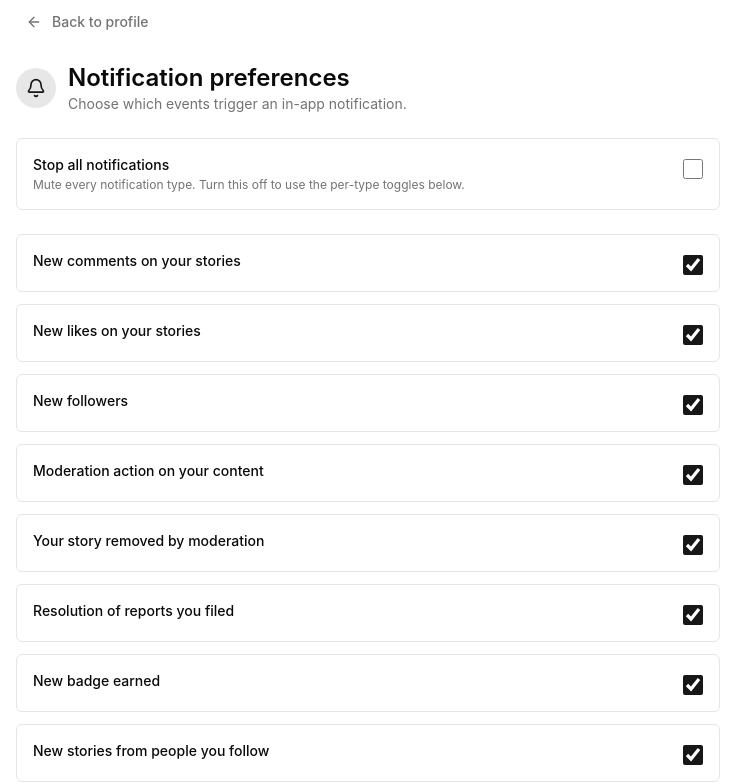
Test: NotificationPreferencesPage › toggling master mute disables per-type toggles and sends notifications_muted patch
The image size is (737, 784).
What coordinates should you click on to do the following:
click the switch labelled "Stop all notifications"
I would click on:
 (693, 169)
Its box is [683,159,703,179].
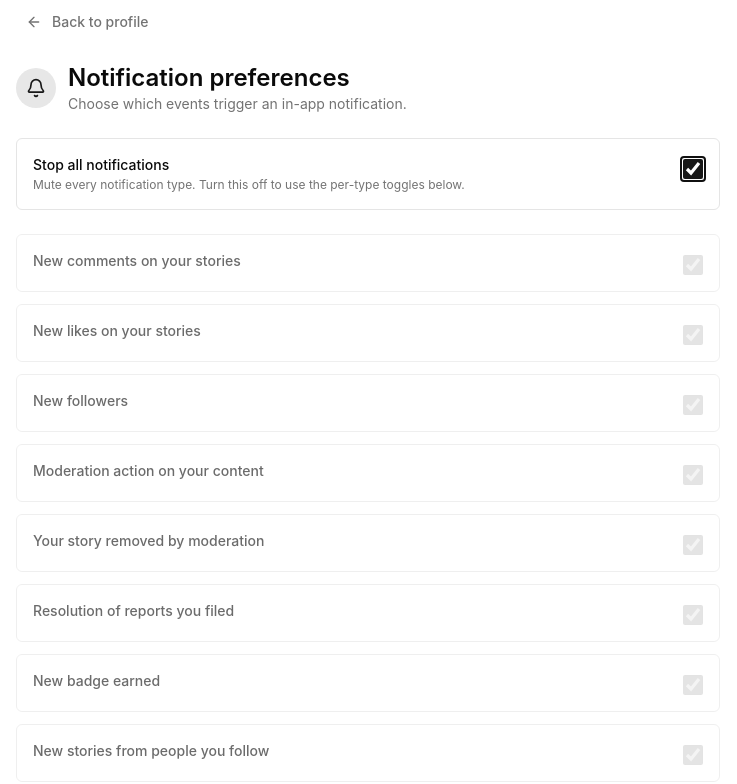
Expected: the switch labelled "New likes on your stories" is disabled, [683,325,703,345]
